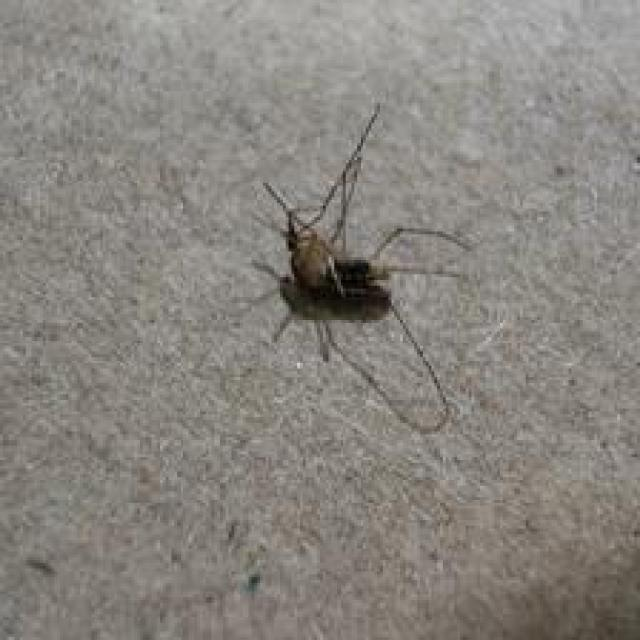Culex: (242, 101, 478, 436)
